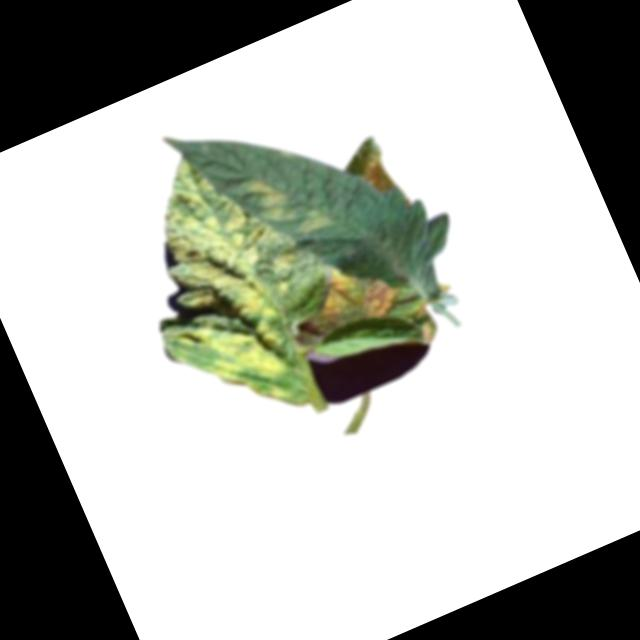Leaf_Mold: (101, 135, 349, 448), (282, 250, 404, 352), (241, 166, 290, 224), (281, 200, 340, 243), (352, 149, 396, 198)
